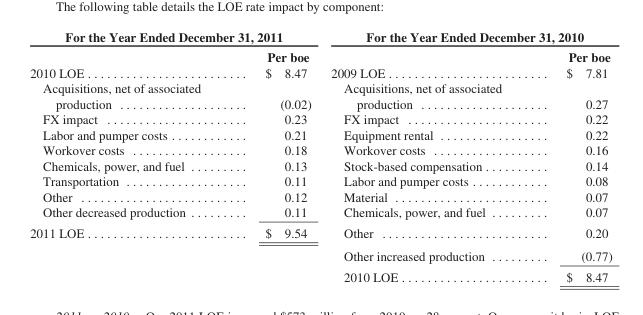table: (29, 28, 611, 283)
table column: (320, 28, 533, 283), (29, 28, 232, 283), (232, 28, 320, 283), (533, 28, 611, 283)
table column header: (29, 28, 611, 80)
table row: (29, 46, 611, 80), (29, 80, 611, 111), (29, 222, 611, 244), (29, 244, 611, 266), (29, 28, 611, 46), (29, 204, 611, 222), (29, 266, 611, 283), (29, 126, 611, 142), (29, 157, 611, 173), (29, 188, 611, 204), (29, 111, 611, 126), (29, 142, 611, 157), (29, 173, 611, 188)
table spanning cell: (29, 28, 320, 46), (320, 28, 611, 46)
